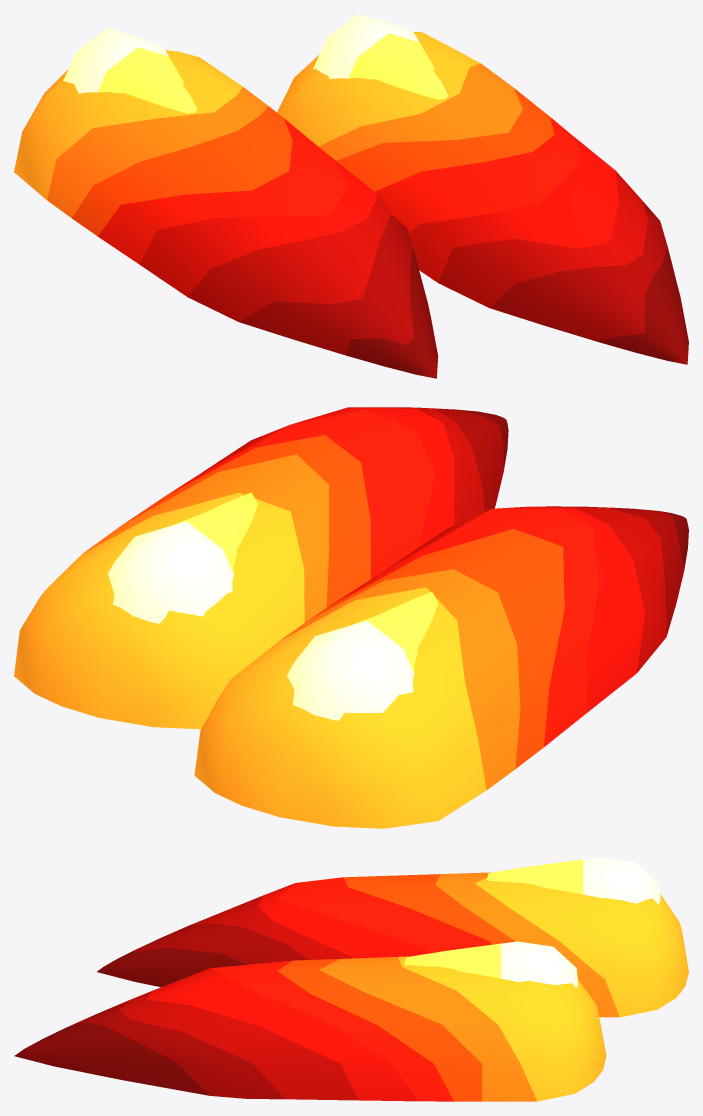
File: shot_pulse_h2l.glb
3 views of the same model, one above another, from view 1: azimuth 30°, elevation 25°; view 2: azimuth 150°, elevation 25°; view 3: azimuth 270°, elevation 25° (orthographic). The views are drawn at different scales.
Visible parts, largest first — view 1: shot_pulse_h2l_bolt0, shot_pulse_h2l_bolt1, shot_pulse_h2l_core1, shot_pulse_h2l_core0; view 2: shot_pulse_h2l_bolt0, shot_pulse_h2l_bolt1, shot_pulse_h2l_core1, shot_pulse_h2l_core0; view 3: shot_pulse_h2l_bolt1, shot_pulse_h2l_bolt0, shot_pulse_h2l_core0, shot_pulse_h2l_core1.
Part boxes in pixels (left/top/right/bottom): shot_pulse_h2l_bolt0: left=14, top=50, right=438, bottom=378; shot_pulse_h2l_bolt1: left=277, top=31, right=688, bottom=364; shot_pulse_h2l_core1: left=313, top=14, right=448, bottom=99; shot_pulse_h2l_core0: left=63, top=28, right=197, bottom=113; shot_pulse_h2l_bolt0: left=194, top=506, right=688, bottom=828; shot_pulse_h2l_bolt1: left=14, top=407, right=508, bottom=729; shot_pulse_h2l_core1: left=108, top=492, right=257, bottom=623; shot_pulse_h2l_core0: left=287, top=591, right=438, bottom=720; shot_pulse_h2l_bolt1: left=14, top=956, right=606, bottom=1101; shot_pulse_h2l_bolt0: left=97, top=872, right=688, bottom=1017; shot_pulse_h2l_core0: left=486, top=857, right=660, bottom=904; shot_pulse_h2l_core1: left=404, top=941, right=578, bottom=987.
Bounding box in the file's own units: 7.7 × 2.24 × 12.53.
